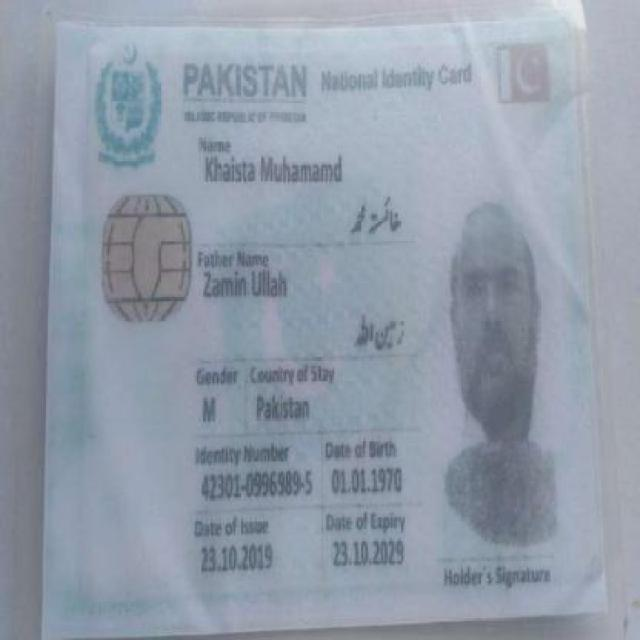Front: (60, 23, 612, 623)
